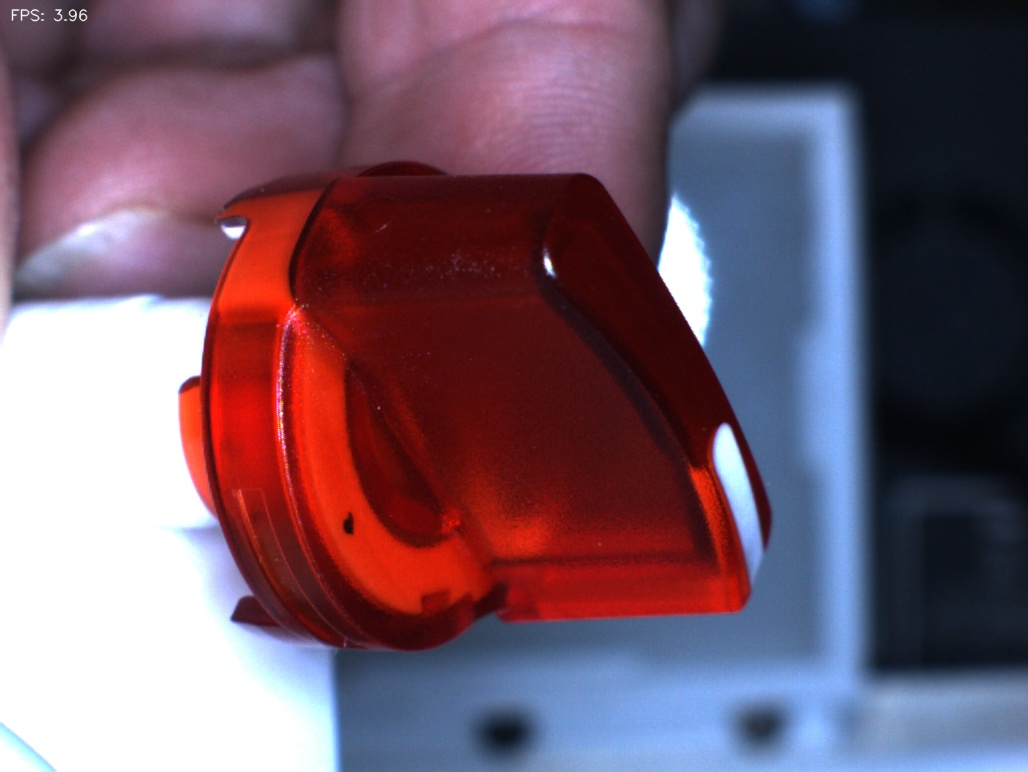PointNoir: (303, 473, 384, 563)
